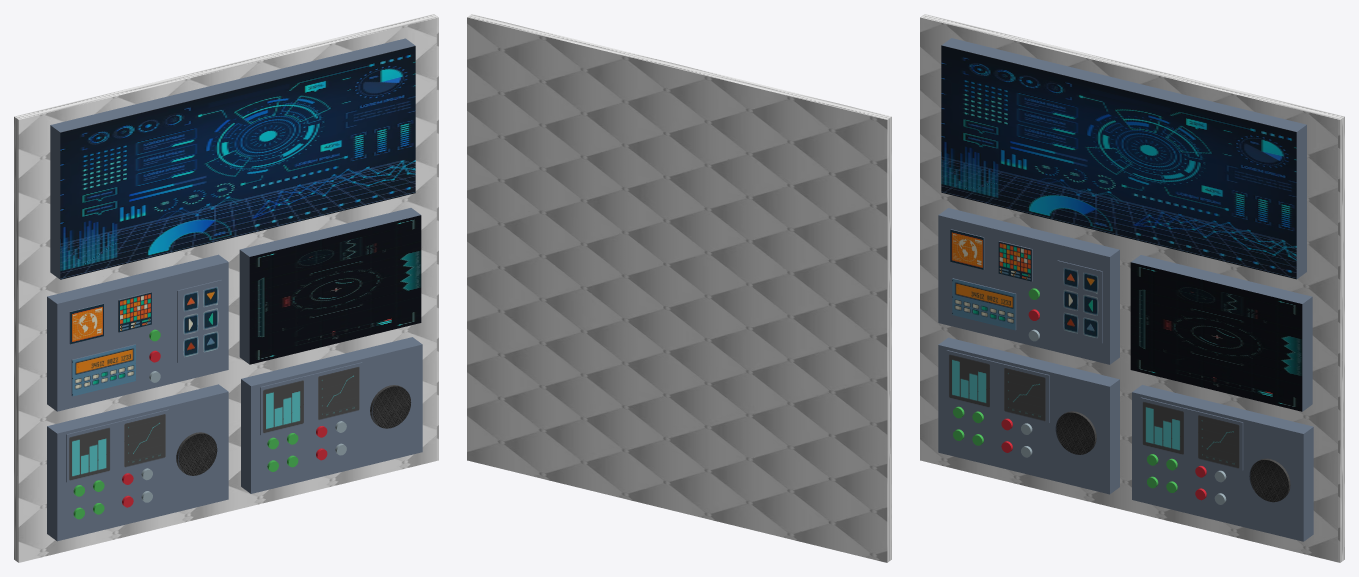
File: modulos-sistemas.fbx
The picture shows the model from 3 angles, left to right: view 1: azimuth 30°, elevation 25°; view 2: azimuth 150°, elevation 25°; view 3: azimuth 330°, elevation 25°; orthographic projection.
Visible parts, largest first — view 1: Cubo.006, Cube; view 2: Cube; view 3: Cubo.006, Cube.
Boxes of the visible parts, left/top/right/bottom form: Cubo.006: left=47, top=38, right=422, bottom=541; Cube: left=14, top=14, right=438, bottom=562; Cube: left=467, top=14, right=891, bottom=562; Cubo.006: left=938, top=38, right=1313, bottom=541; Cube: left=920, top=14, right=1344, bottom=562.
Bounding box in the file's own units: 630 × 634 × 42.79.
Materials: 29 (29 with a texture image).
